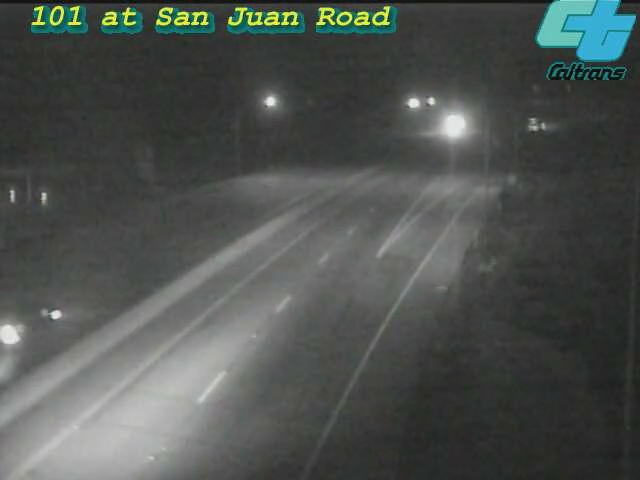vehicle: (1, 270, 74, 380), (426, 101, 476, 151), (511, 99, 561, 149)
